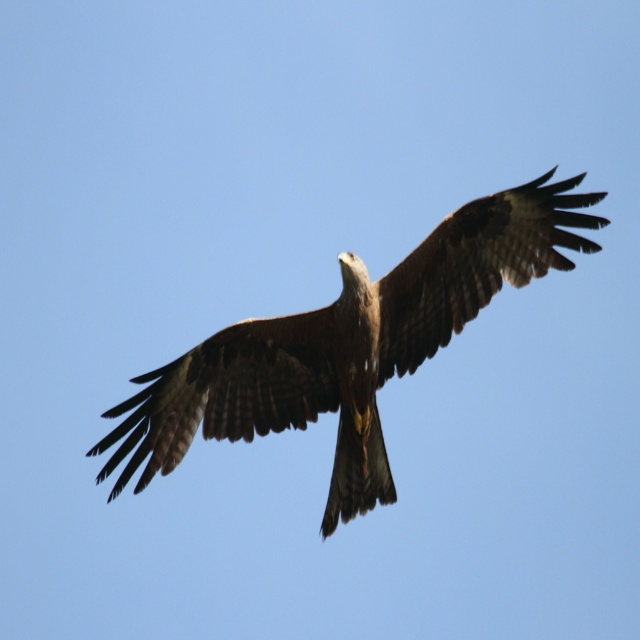Eagle: (85, 163, 611, 544)
